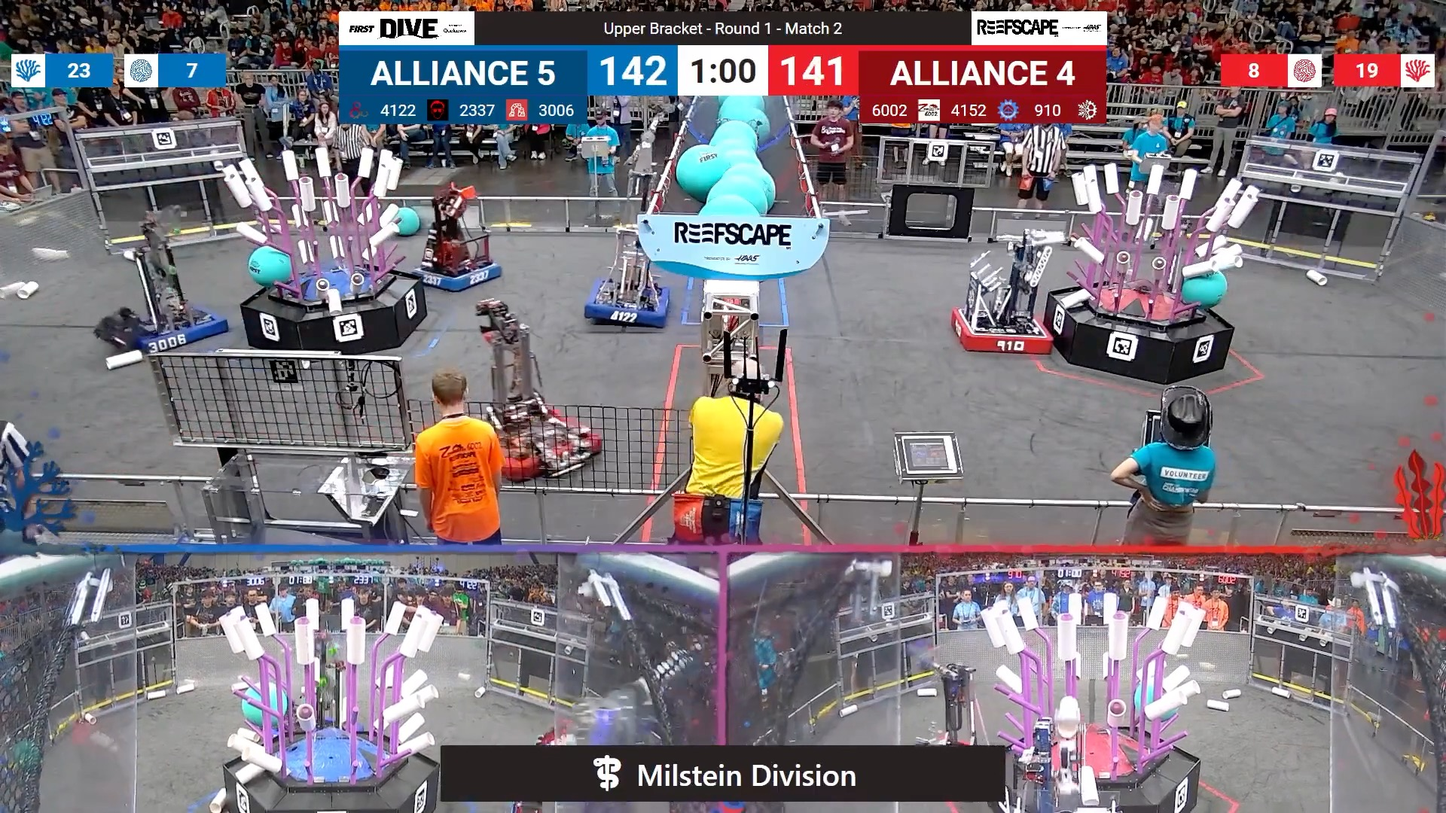bumpers: (484, 421, 605, 483), (104, 300, 232, 354), (946, 303, 1062, 359), (581, 279, 676, 330), (401, 255, 508, 296)
